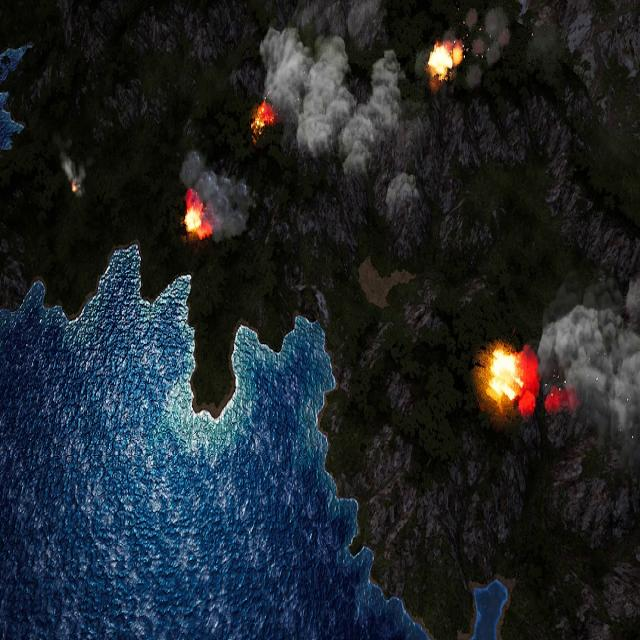fire: (488, 346, 522, 404), (429, 41, 464, 79), (252, 102, 276, 140), (72, 181, 78, 194)
smoke: (260, 24, 406, 174), (524, 270, 638, 450), (182, 148, 256, 239), (463, 6, 512, 93), (56, 133, 88, 201)
